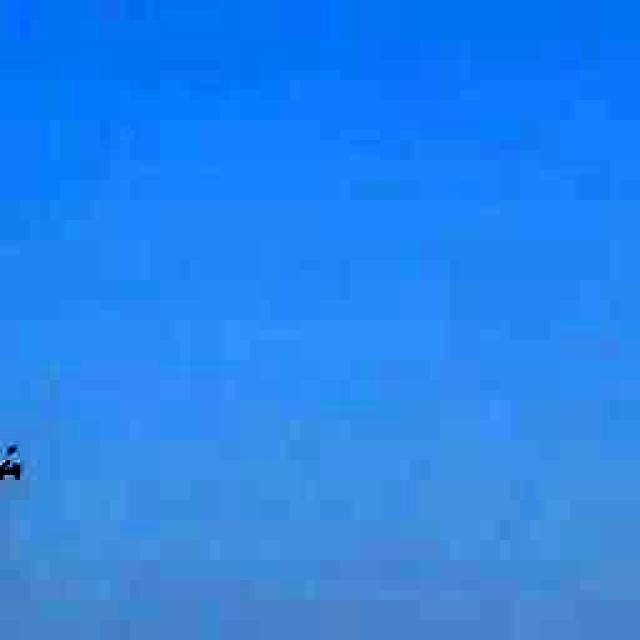bird: (0, 424, 35, 504)
